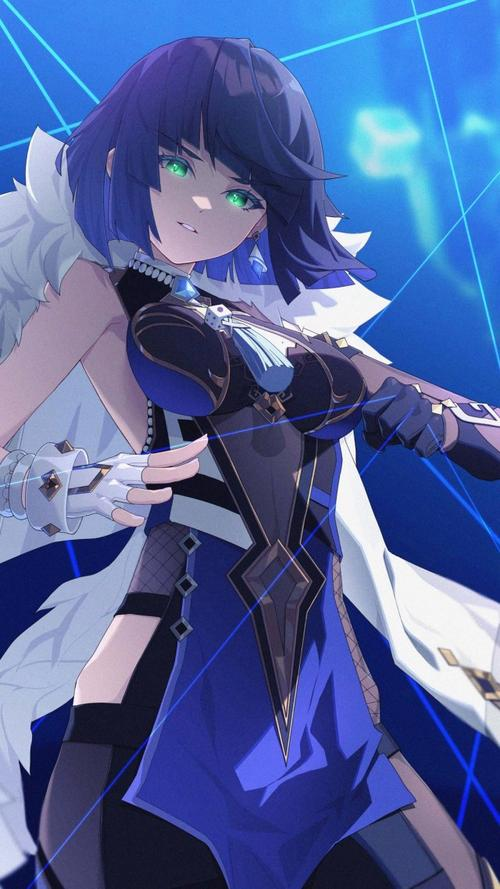夜兰: (1, 34, 496, 889)
